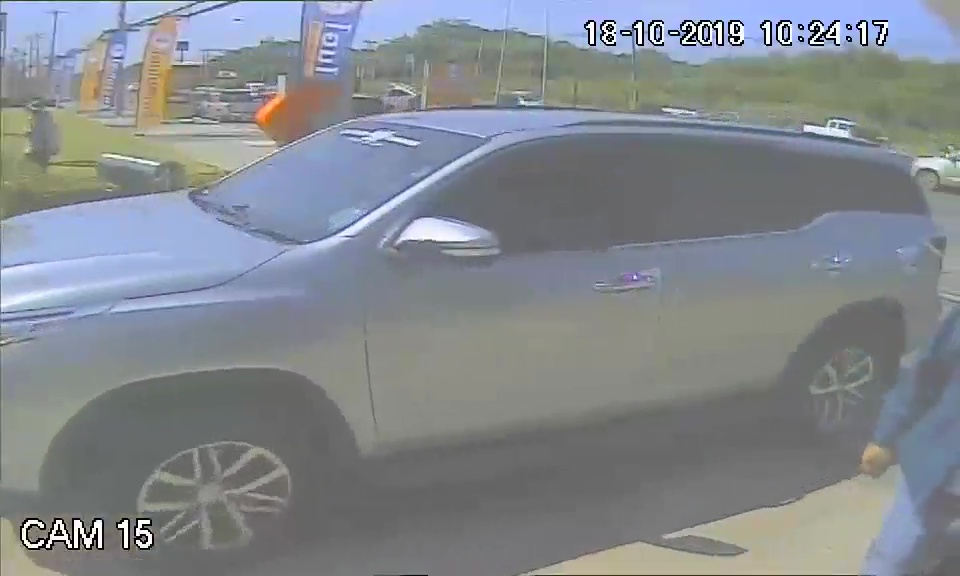pickup: (2, 107, 887, 519)
